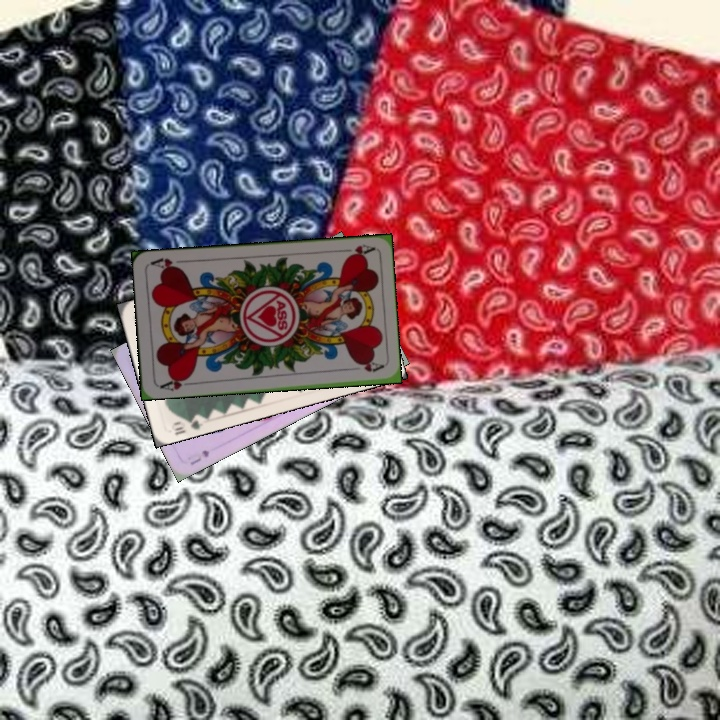G10: (167, 410, 206, 437)
HA: (156, 372, 196, 393), (335, 241, 376, 260)
SU: (186, 446, 212, 468)
